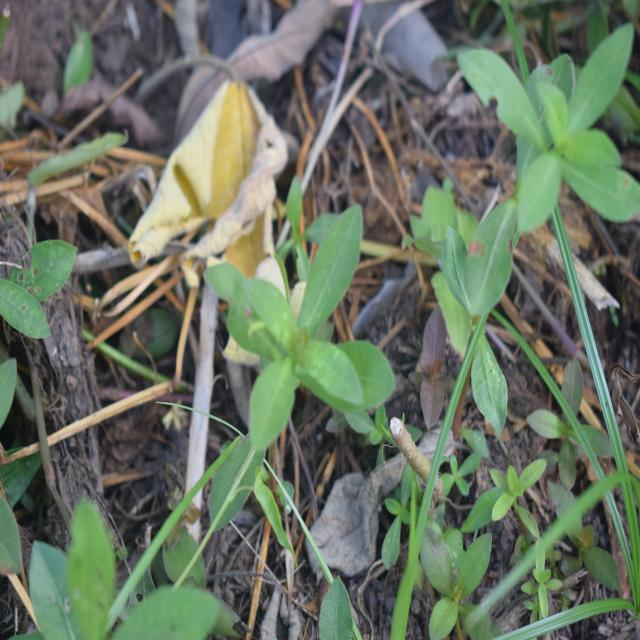Alligatorweed: (200, 181, 420, 474), (463, 16, 640, 254)
